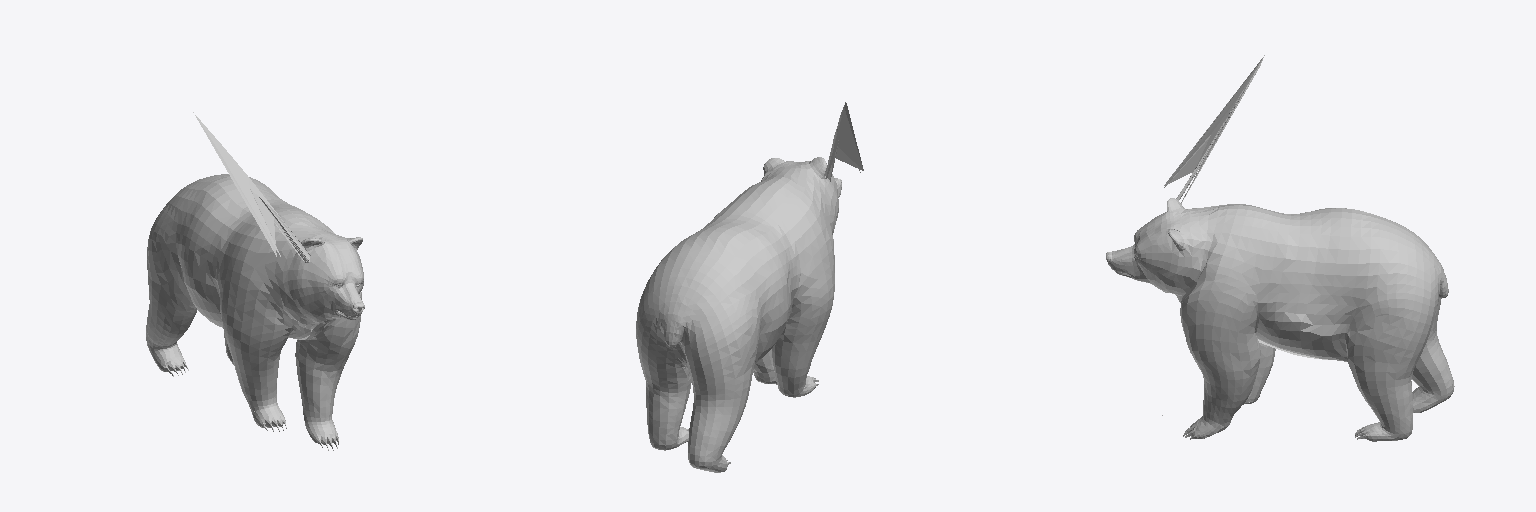
File: Bear0029.obj
3 views of the same model, side by side, from view 1: azimuth 30°, elevation 25°; view 2: azimuth 150°, elevation 25°; view 3: azimuth 270°, elevation 25° (orthographic).
Visible parts, largest first — view 1: Object_237; view 2: Object_237; view 3: Object_237.
Part boxes in pixels (bbox=[...]): Object_237: bbox=[146, 112, 364, 450]; Object_237: bbox=[636, 102, 863, 472]; Object_237: bbox=[1106, 55, 1454, 441].
Size of the model in its own units: 2.3 by 5.2 by 4.93.